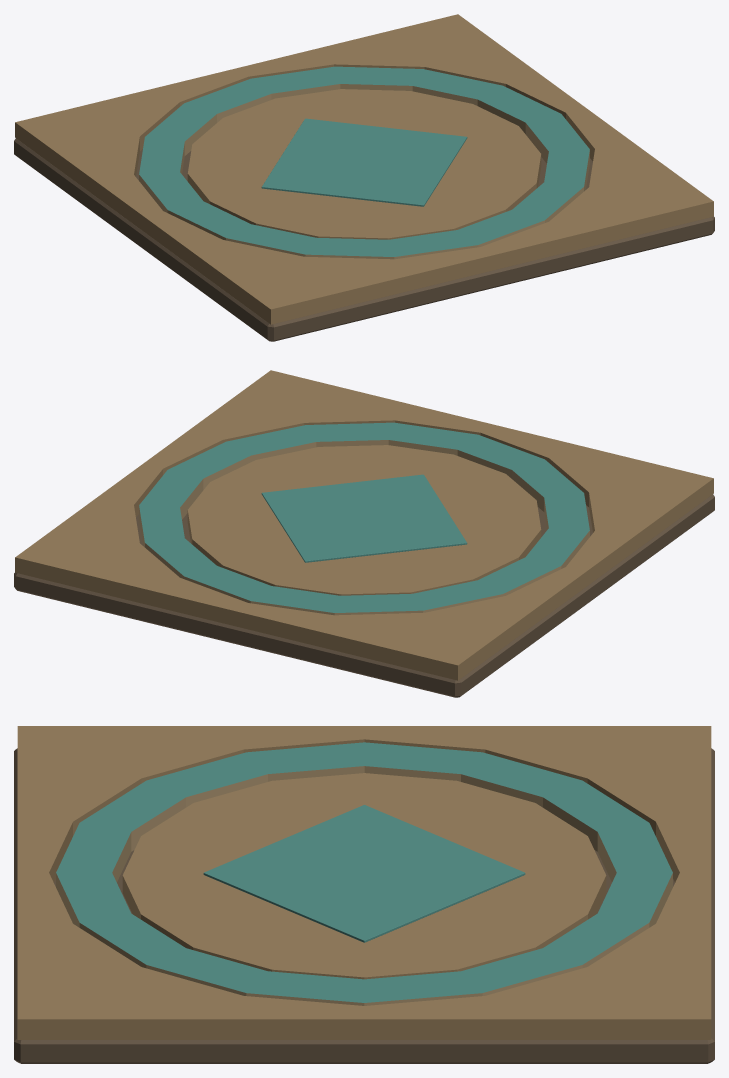
The model's file is floor-radial.glb.
The picture shows the model from 3 angles, top to bottom: view 1: azimuth 30°, elevation 25°; view 2: azimuth 150°, elevation 25°; view 3: azimuth 270°, elevation 25°; orthographic projection. The views are drawn at different scales.
Parts seen in each view (by area): view 1: floor-radial__body; view 2: floor-radial__body; view 3: floor-radial__body.
Part boxes in pixels (bbox=[...]): floor-radial__body: bbox=[14, 14, 714, 341]; floor-radial__body: bbox=[14, 370, 714, 697]; floor-radial__body: bbox=[14, 726, 714, 1063].
Bounding box in the file's own units: 2 × 0.14 × 2.
